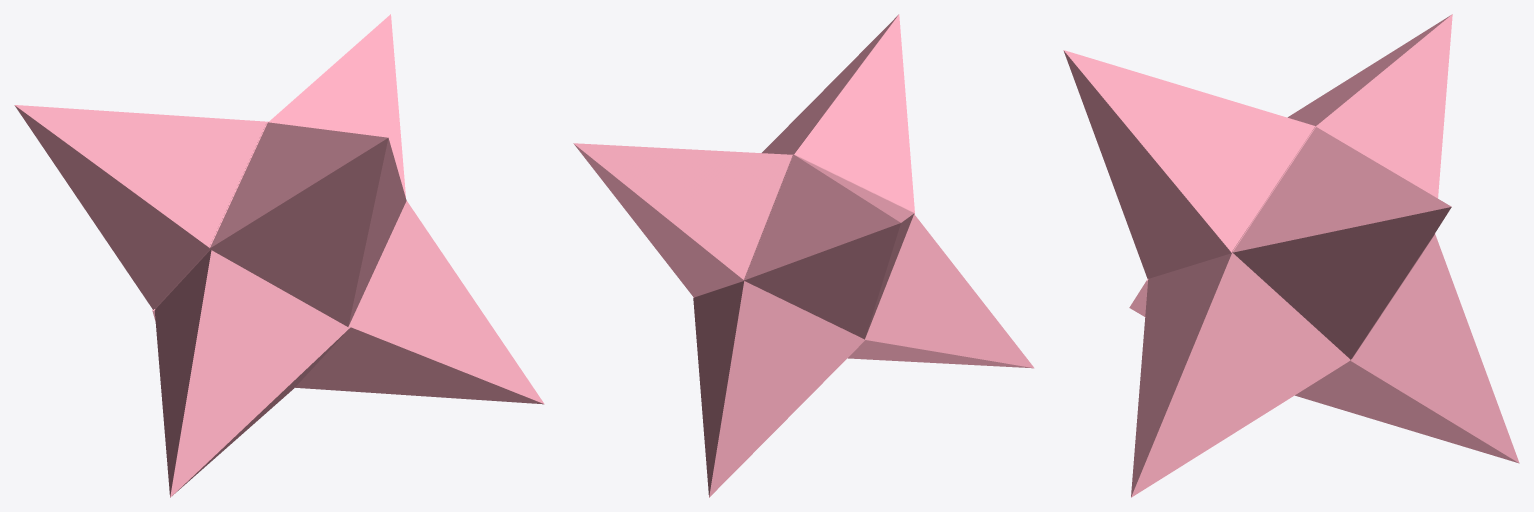
Rendered from MetallicStarPink.glb.
3 renders of one model, left to right at view 1: azimuth 30°, elevation 25°; view 2: azimuth 150°, elevation 25°; view 3: azimuth 270°, elevation 25°, orthographic. The views are drawn at different scales.
Visible parts, largest first — view 1: Star; view 2: Star; view 3: Star.
Boxes of the visible parts, x1=… form: Star: x1=14, y1=14, x2=544, y2=497; Star: x1=573, y1=14, x2=1034, y2=497; Star: x1=1063, y1=14, x2=1519, y2=497.
Bounding box in the file's own units: 5.45 × 5.46 × 5.46.
